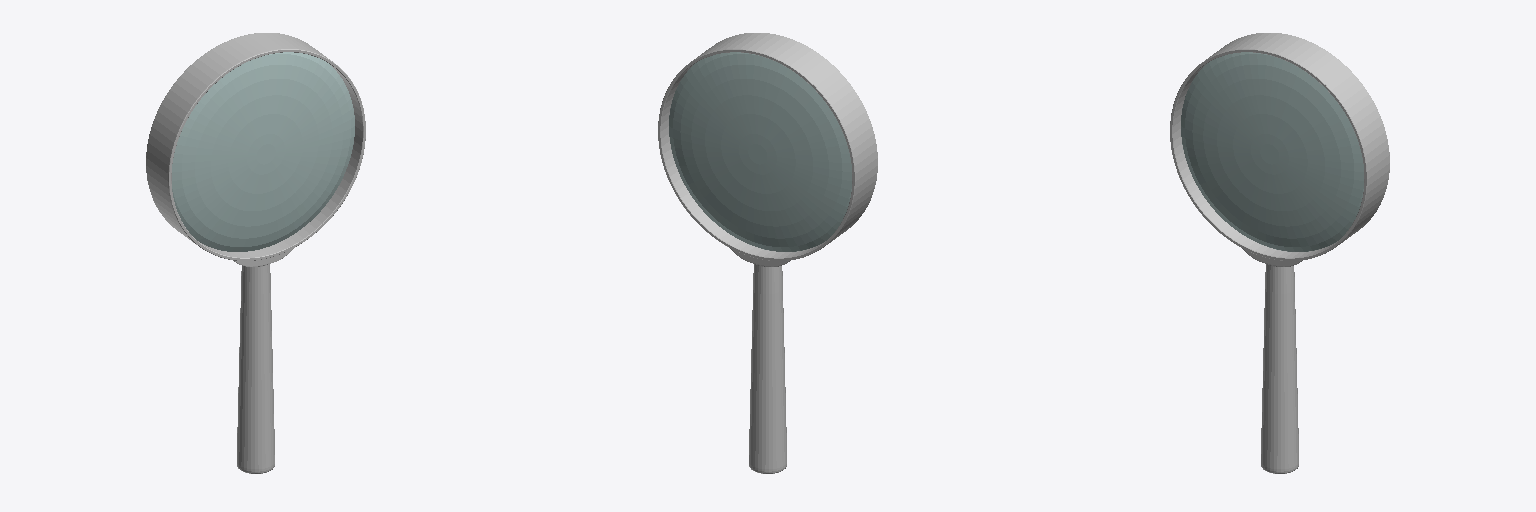
The model's file is lupa.obj.
3 renders of one model, left to right at view 1: azimuth 30°, elevation 25°; view 2: azimuth 150°, elevation 25°; view 3: azimuth 330°, elevation 25°, orthographic.
Visible parts, largest first — view 1: magnifying_glass_01_Sphere.002; view 2: magnifying_glass_01_Sphere.002; view 3: magnifying_glass_01_Sphere.002.
Boxes of the visible parts, box(x1,y1,x2,y2) form: magnifying_glass_01_Sphere.002: box(146, 33, 365, 473); magnifying_glass_01_Sphere.002: box(658, 33, 877, 473); magnifying_glass_01_Sphere.002: box(1170, 33, 1389, 473).
Bounding box in the file's own units: 0.1321 × 0.2716 × 0.0267.